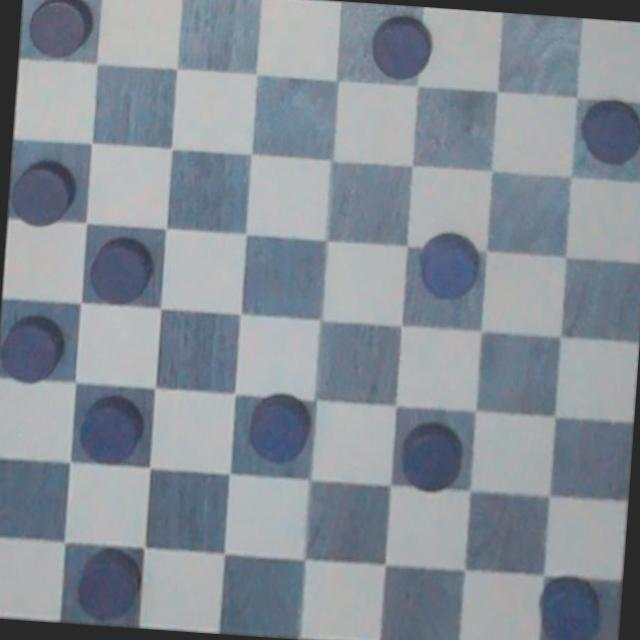BOARD: (0, 0, 640, 640)
black: (412, 216, 487, 312), (393, 414, 476, 498), (68, 542, 152, 625), (238, 384, 320, 466), (527, 563, 607, 640), (364, 6, 438, 84), (574, 83, 640, 167), (74, 388, 145, 466), (87, 231, 155, 309), (5, 160, 76, 232), (0, 315, 64, 388), (17, 0, 88, 63)
